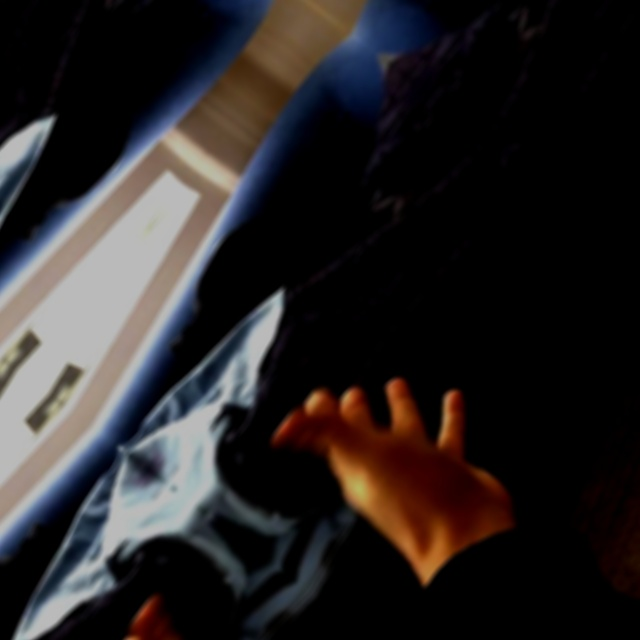Paper: (0, 0, 3, 182)
